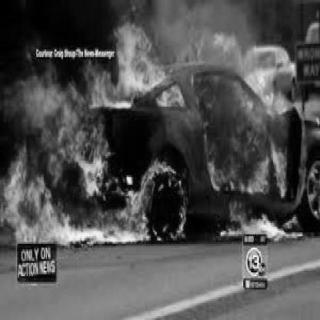Fire: (192, 68, 304, 245)
